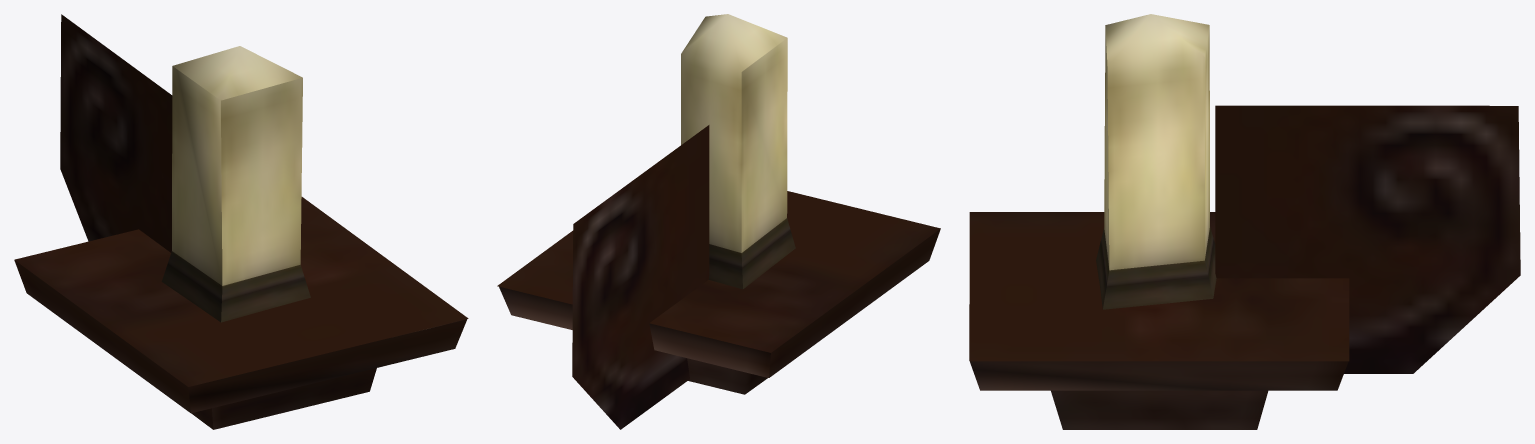
The model's file is candle_holder.fbx.
3 renders of one model, left to right at view 1: azimuth 30°, elevation 25°; view 2: azimuth 150°, elevation 25°; view 3: azimuth 270°, elevation 25°, orthographic. The views are drawn at different scales.
Parts seen in each view (by area): view 1: LightGlass, candle1, LightSupport; view 2: LightGlass, LightSupport, candle1; view 3: LightSupport, LightGlass, candle1.
Part boxes in pixels (x1,y1,x2,y2): LightGlass: (14,197,468,429); candle1: (161,46,310,322); LightSupport: (60,14,172,252); LightGlass: (497,191,940,394); LightSupport: (572,125,709,429); candle1: (681,14,795,289); LightSupport: (1215,105,1520,373); LightGlass: (969,212,1349,429); candle1: (1096,14,1216,309).
Bounding box in the file's own units: 77.11 × 88.8 × 120.
Materials: 2 (2 with a texture image).
